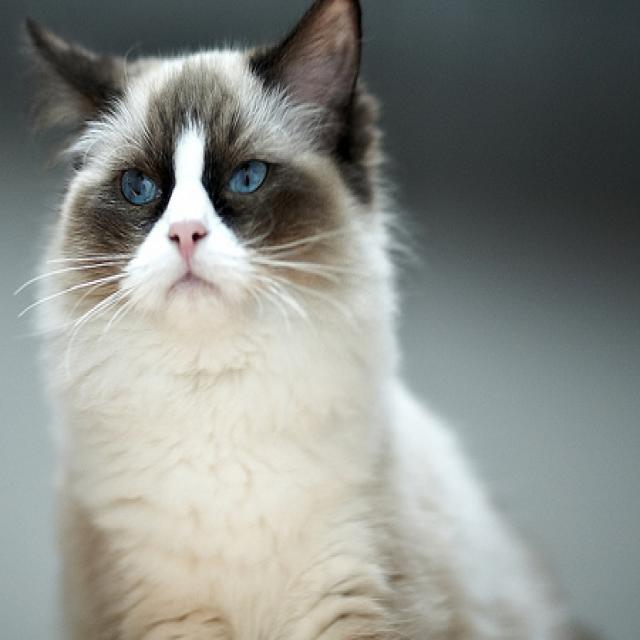Ragdoll: (16, 0, 622, 640)
